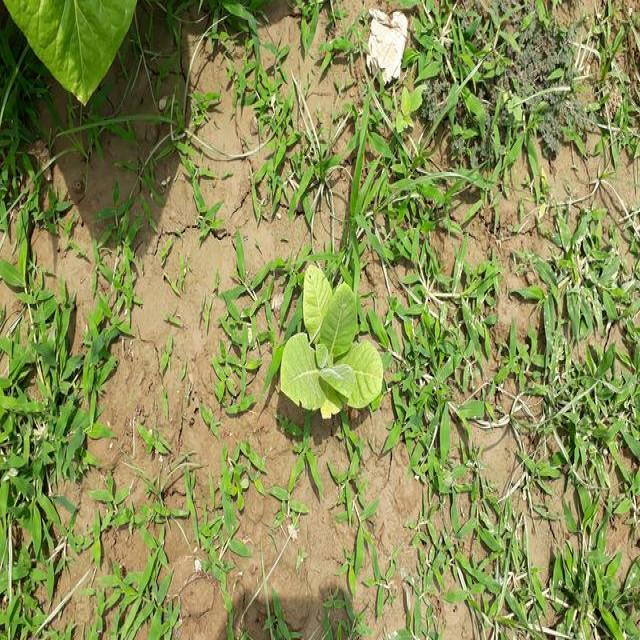crop: (269, 247, 394, 435)
